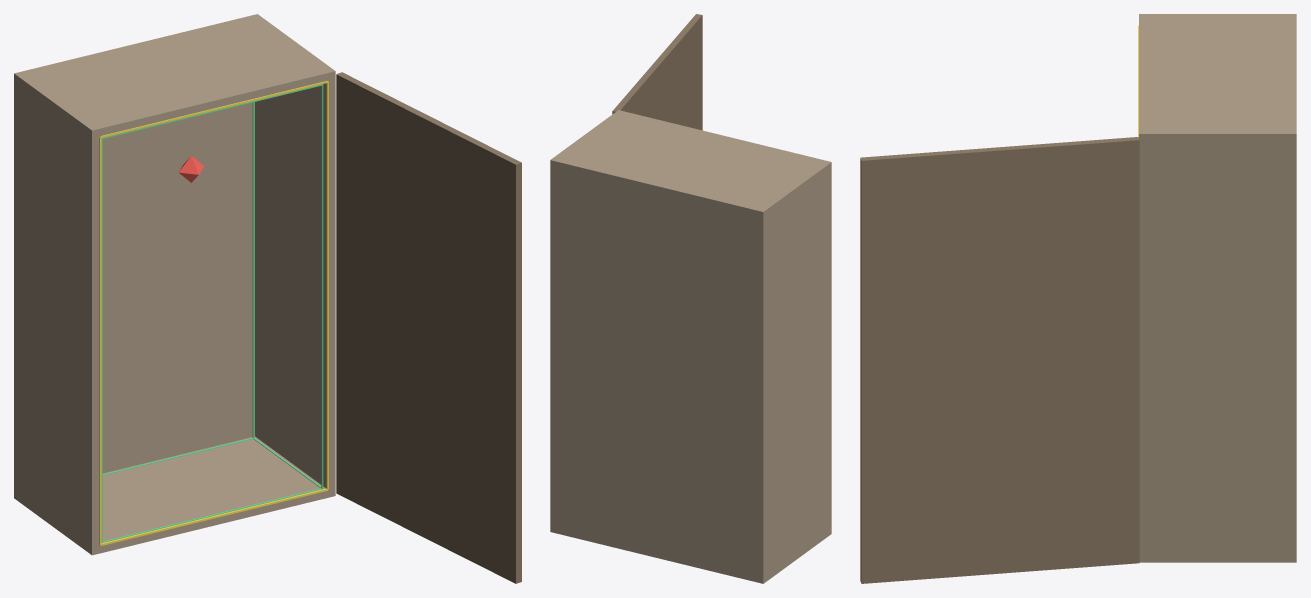
The model's file is HakoOnna_Pose_GetaBako.glb.
3 renders of one model, left to right at view 1: azimuth 30°, elevation 25°; view 2: azimuth 150°, elevation 25°; view 3: azimuth 270°, elevation 25°, orthographic. The views are drawn at different scales.
Parts seen in each view (by area): view 1: Shell, Open_Door, SafeZone_1.5cm, Opening; view 2: Shell, Open_Door; view 3: Open_Door, Shell.
Boxes of the visible parts, bbox=[...] form: Shell: bbox=[14, 14, 335, 555]; Open_Door: bbox=[336, 72, 521, 583]; SafeZone_1.5cm: bbox=[101, 84, 323, 542]; Opening: bbox=[99, 81, 328, 545]; Shell: bbox=[550, 110, 831, 583]; Open_Door: bbox=[612, 14, 702, 130]; Open_Door: bbox=[860, 137, 1139, 583]; Shell: bbox=[1139, 14, 1296, 562].
Size of what is drawn, in the model's own units: 1.35 by 1.88 by 1.73.
